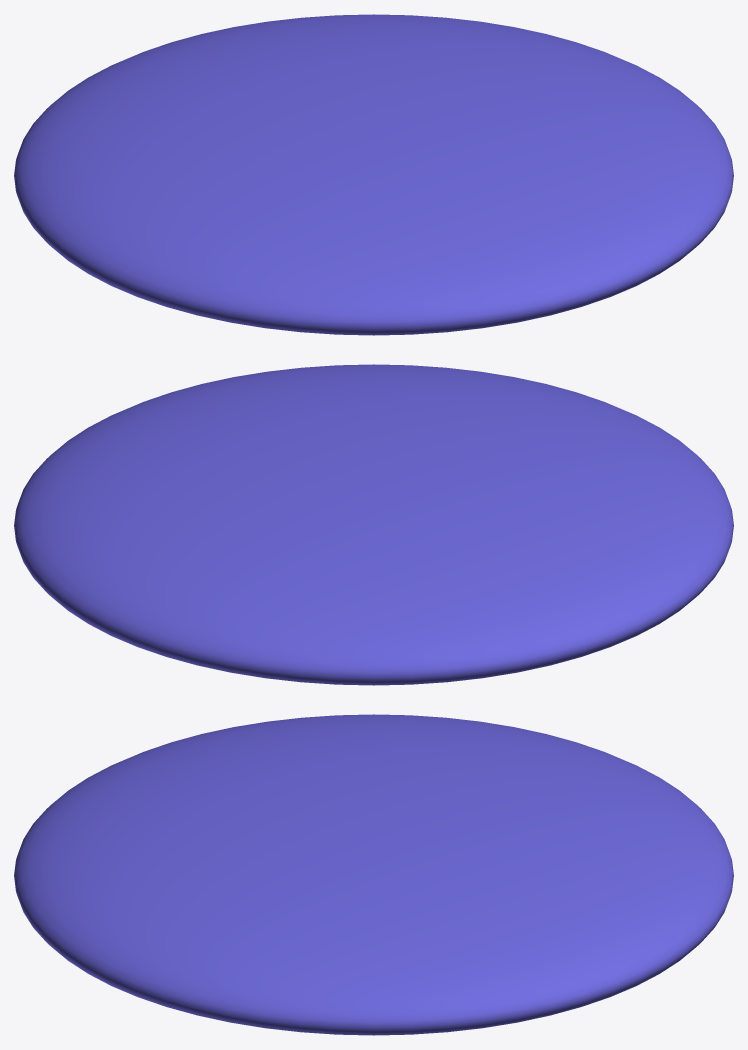
File: CenterIsland.fbx
The picture shows the model from 3 angles, top to bottom: view 1: azimuth 30°, elevation 25°; view 2: azimuth 150°, elevation 25°; view 3: azimuth 270°, elevation 25°; orthographic projection.
Visible parts, largest first — view 1: Sphere.004; view 2: Sphere.004; view 3: Sphere.004.
Part boxes in pixels (x1,y1,x2,y2): Sphere.004: [14, 14, 733, 335]; Sphere.004: [14, 364, 733, 685]; Sphere.004: [14, 714, 733, 1035].
Size of the model in its own units: 734 by 72.64 by 734.
